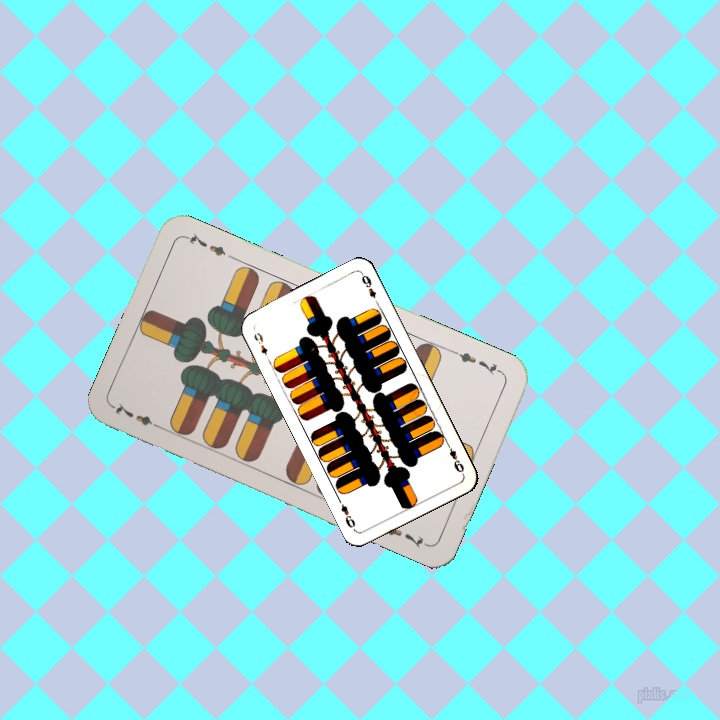E7: (110, 398, 166, 432), (449, 346, 505, 378)
E9: (443, 439, 467, 477), (249, 328, 272, 364)
